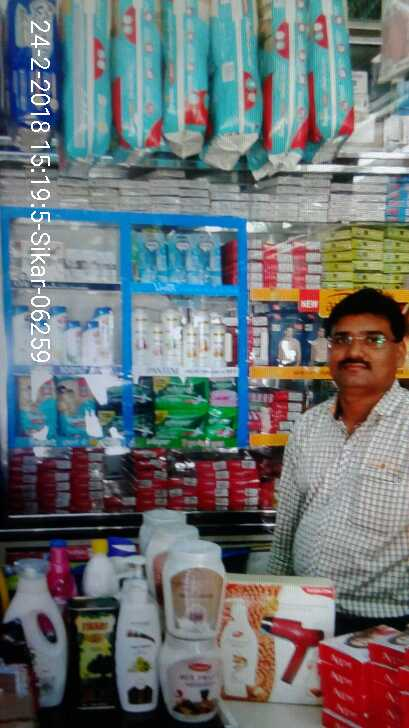venus: (137, 230, 168, 284), (168, 230, 195, 290), (195, 234, 219, 291)
